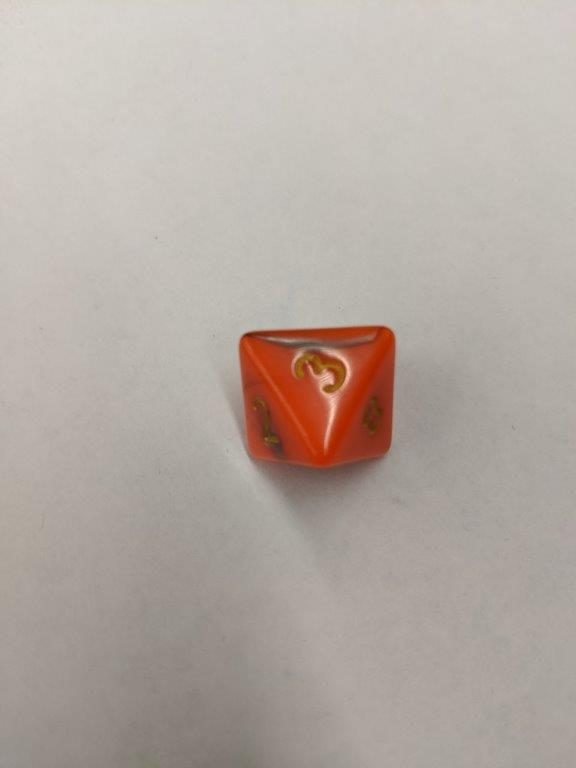d8-3: (236, 324, 401, 471)
